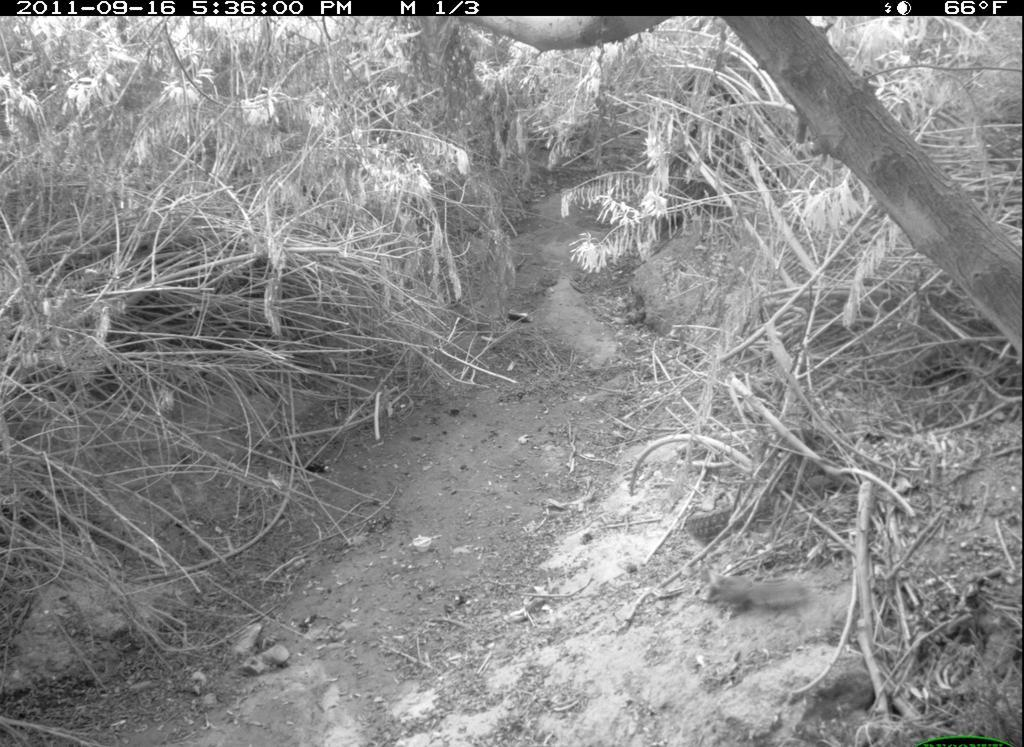squirrel: (695, 561, 819, 622)
